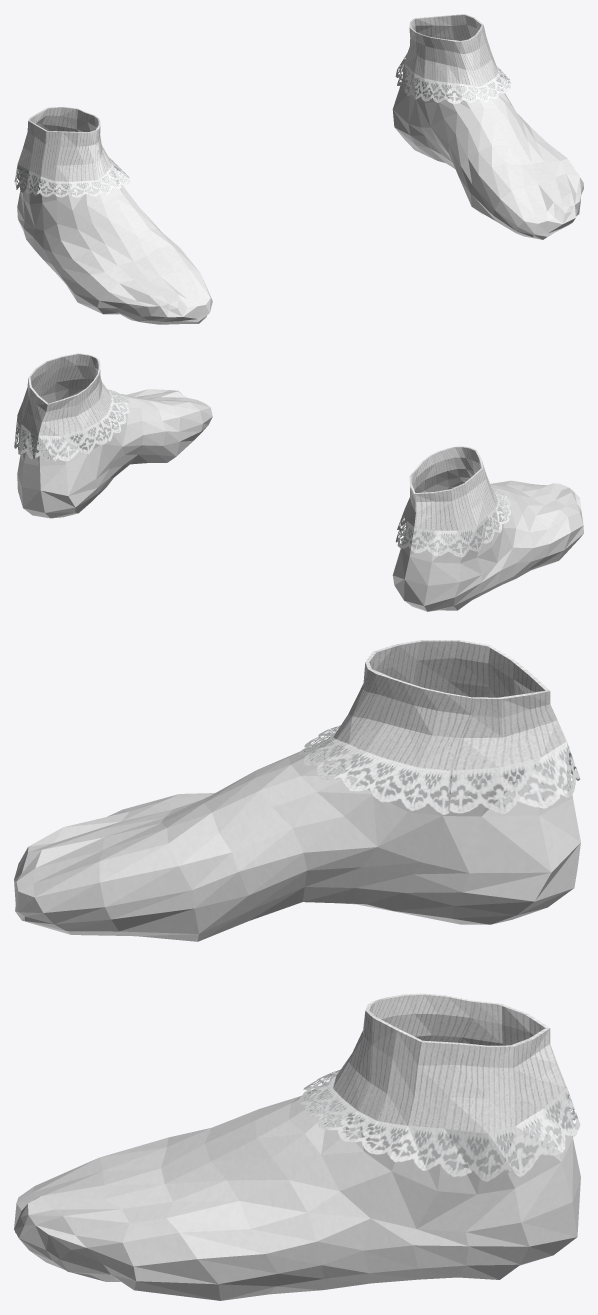
The model's file is mhw_toigo_lace_frill_socks.glb.
3 views of the same model, one above another, from view 1: azimuth 30°, elevation 25°; view 2: azimuth 150°, elevation 25°; view 3: azimuth 270°, elevation 25° (orthographic). The views are drawn at different scales.
Parts seen in each view (by area): view 1: mhw_toigo_lace_frill_socks; view 2: mhw_toigo_lace_frill_socks; view 3: mhw_toigo_lace_frill_socks.
Boxes of the visible parts, <box> form: mhw_toigo_lace_frill_socks: <box>14,14,583,324</box>; mhw_toigo_lace_frill_socks: <box>14,353,583,611</box>; mhw_toigo_lace_frill_socks: <box>14,640,580,1300</box>.
Bounding box in the file's own units: 0.5437 × 0.1448 × 0.289.
Materials: 1 (1 with a texture image).
